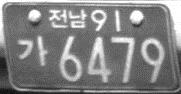1: (113, 7, 122, 34)
4: (85, 35, 112, 84)
6: (57, 34, 83, 82)
7: (109, 35, 137, 84)
9: (139, 36, 166, 84), (90, 8, 107, 32)
가: (15, 34, 49, 67)
전남_O: (47, 7, 87, 29)
